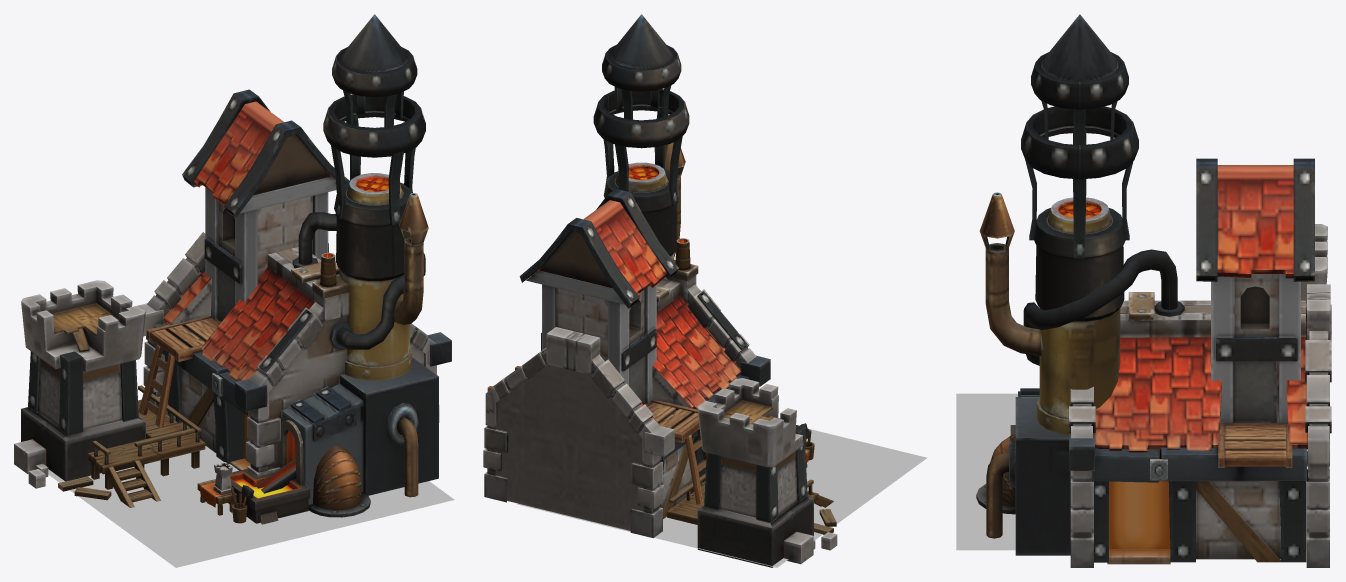
Rendered from C_DirtyWorkshop_LV4.fbx.
3 renders of one model, left to right at view 1: azimuth 30°, elevation 25°; view 2: azimuth 150°, elevation 25°; view 3: azimuth 270°, elevation 25°, orthographic. The views are drawn at different scales.
Visible parts, largest first — view 1: Dirty_Workshop_LV04_0_mesh, Dirty_Workshop_LV04_1_mesh; view 2: Dirty_Workshop_LV04_0_mesh, Dirty_Workshop_LV04_1_mesh; view 3: Dirty_Workshop_LV04_0_mesh, Dirty_Workshop_LV04_1_mesh.
Part boxes in pixels (x1,y1,x2,y2): Dirty_Workshop_LV04_0_mesh: (14, 14, 451, 524); Dirty_Workshop_LV04_1_mesh: (48, 446, 454, 567); Dirty_Workshop_LV04_0_mesh: (483, 14, 837, 567); Dirty_Workshop_LV04_1_mesh: (517, 429, 927, 567); Dirty_Workshop_LV04_0_mesh: (976, 14, 1331, 567); Dirty_Workshop_LV04_1_mesh: (956, 393, 1307, 550).
Size of the model in its own units: 149 by 188 by 122.
